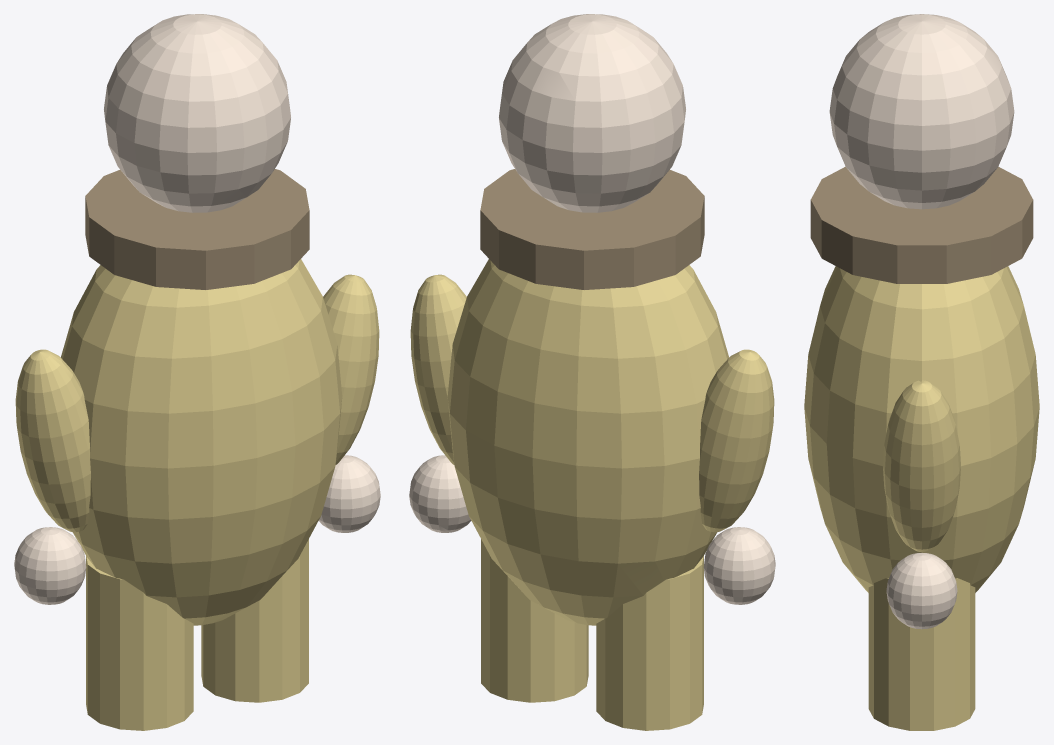
Rendered from preset-05.glb.
3 renders of one model, left to right at view 1: azimuth 30°, elevation 25°; view 2: azimuth 150°, elevation 25°; view 3: azimuth 270°, elevation 25°, orthographic.
Visible parts, largest first — view 1: preset-05; view 2: preset-05; view 3: preset-05.
Boxes of the visible parts, x1=… form: preset-05: x1=14, y1=14, x2=380, y2=730; preset-05: x1=409, y1=14, x2=775, y2=730; preset-05: x1=804, y1=14, x2=1039, y2=730.
Size of the model in its own units: 0.1946 by 0.35 by 0.1132.
